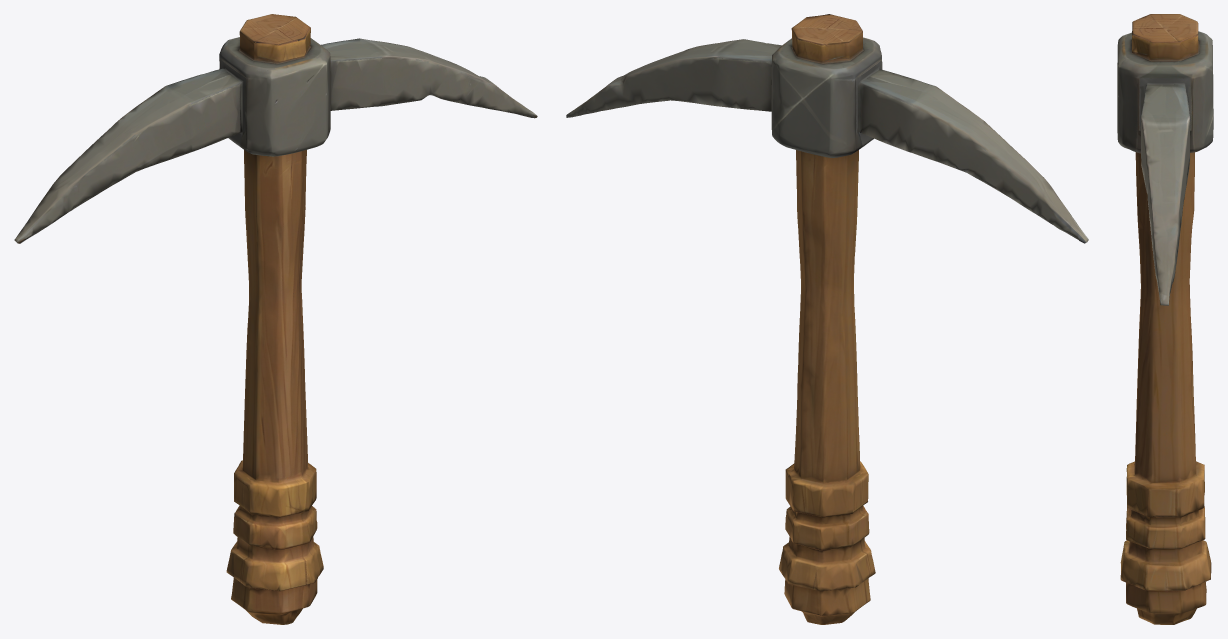
The model's file is pickaxe.glb.
3 renders of one model, left to right at view 1: azimuth 30°, elevation 25°; view 2: azimuth 150°, elevation 25°; view 3: azimuth 270°, elevation 25°, orthographic.
Bounding box in the file's own units: 1.86 × 2 × 0.2971.
Materials: 1 (1 with a texture image).
